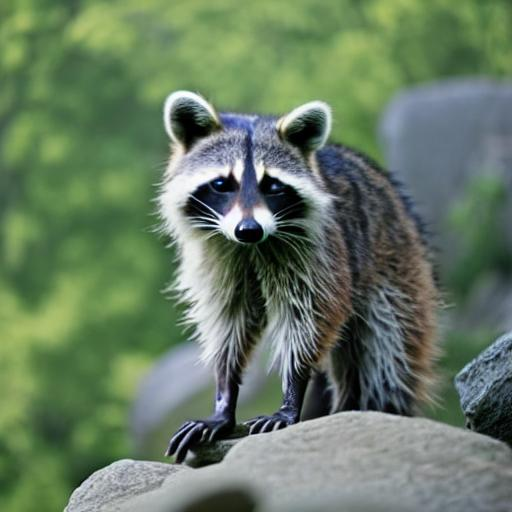raccoon: (148, 80, 452, 415)
